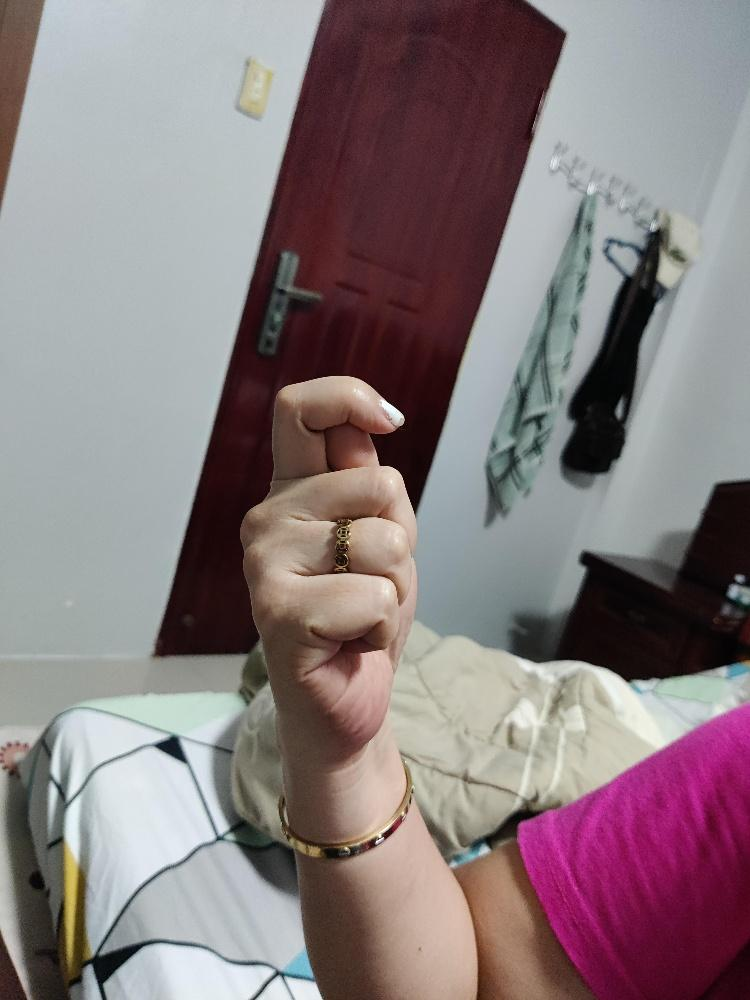t: (235, 371, 420, 753)
